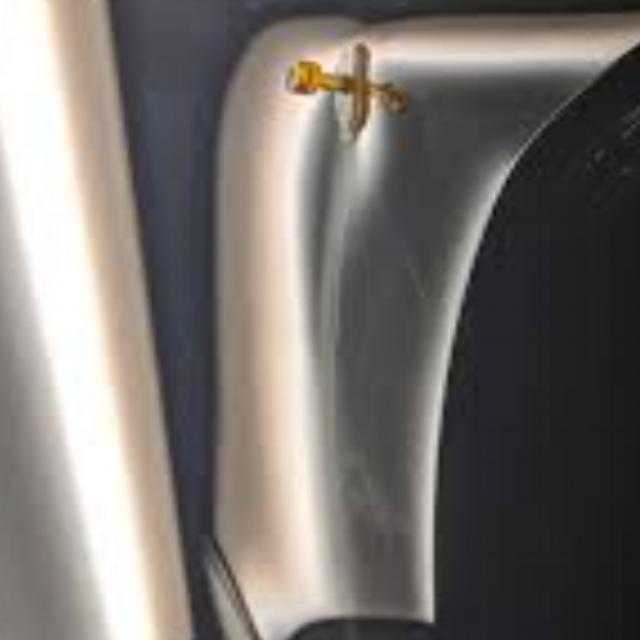dents: (284, 100, 372, 368)
